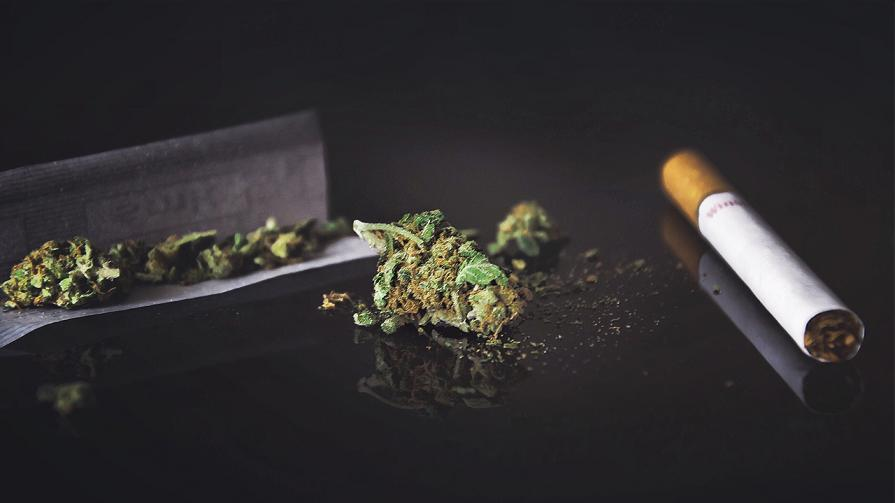cigarette: (647, 136, 870, 390)
